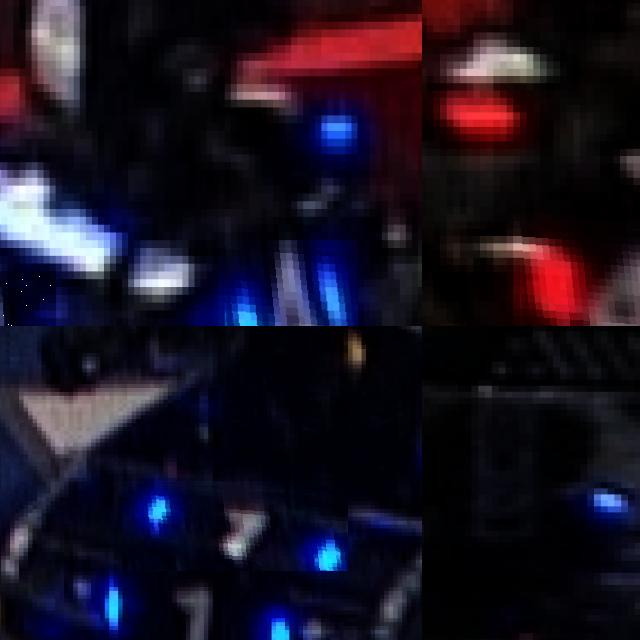B1: (123, 482, 348, 572), (86, 575, 294, 640)
B4: (218, 240, 357, 326)
R4: (513, 221, 640, 326)
